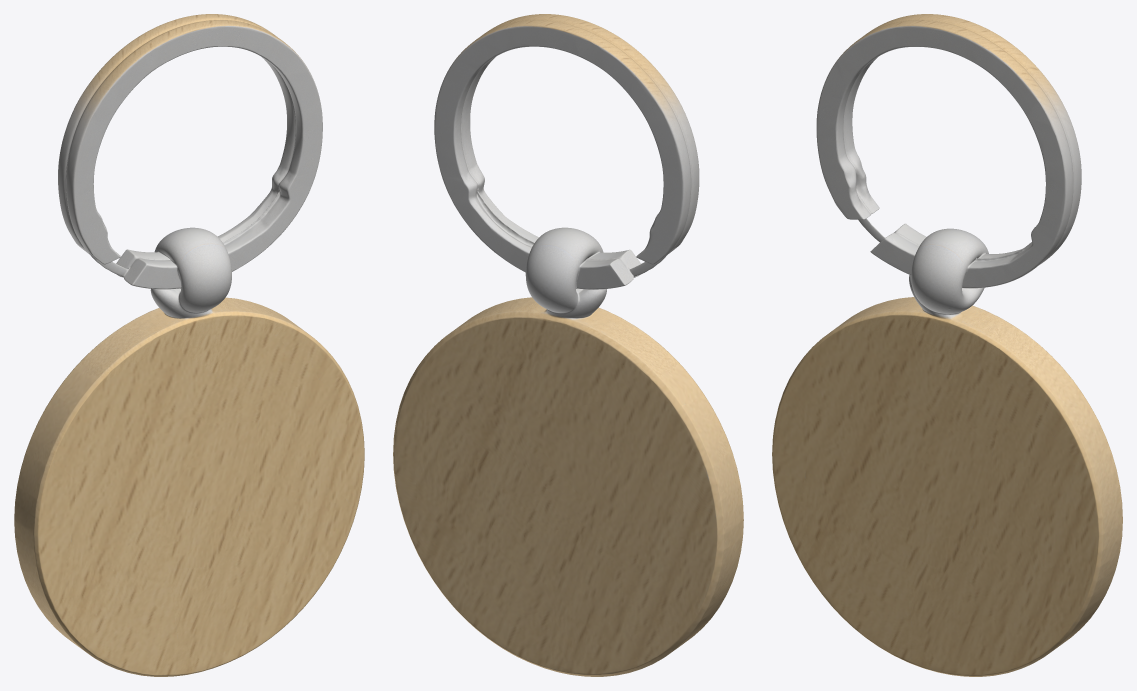
Rendered from keychain-round.glb.
3 views of the same model, side by side, from view 1: azimuth 30°, elevation 25°; view 2: azimuth 150°, elevation 25°; view 3: azimuth 330°, elevation 25° (orthographic).
Bounding box in the file's own units: 1.03 × 1.9 × 0.2389.
Materials: 1 (1 with a texture image).
